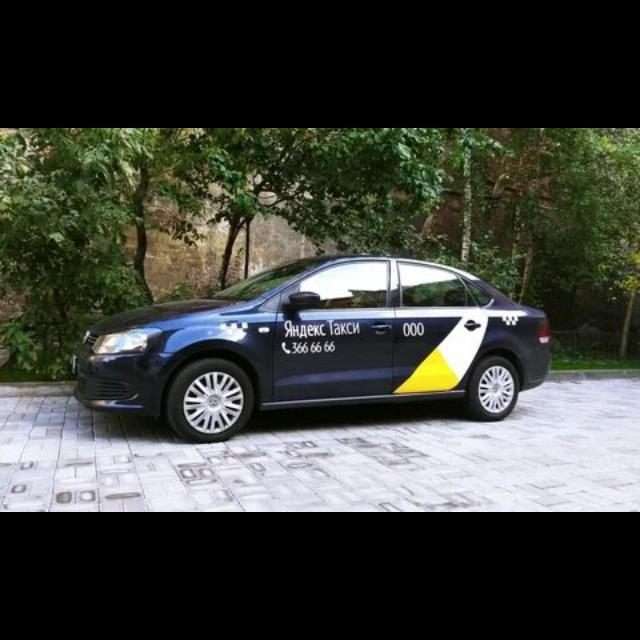taxi: (72, 253, 553, 443)
